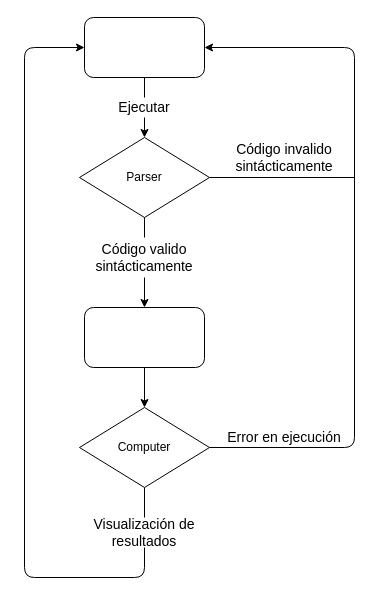
This 380x603 diagram has some shape labels left out. The centre of each missing label's shape, as x and y in pixels:
Interfaz de usuario: pixel 144 47
Translator: pixel 144 337
